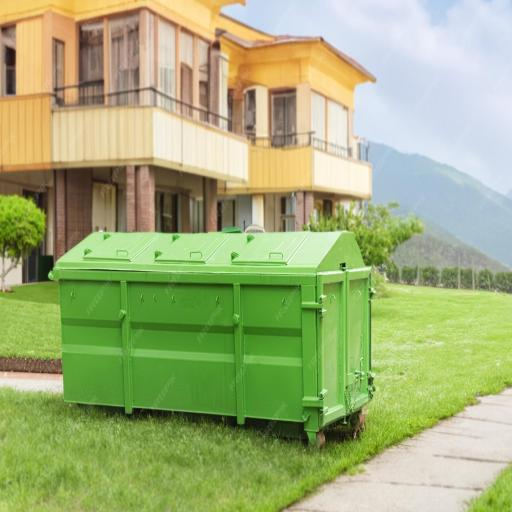Basura_fuera: (0, 308, 347, 435)
Contenedor_Vacio: (50, 230, 372, 445)
